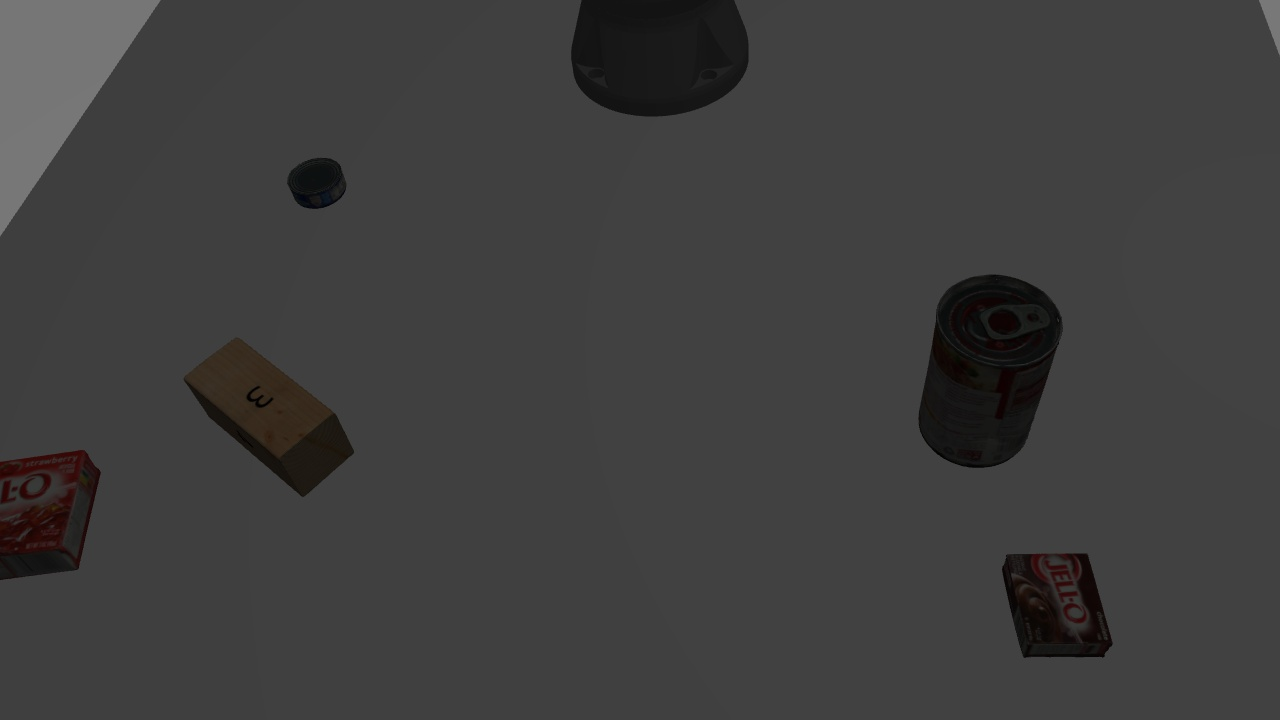gelatin_box: (0, 444, 109, 583)
pudding_box: (999, 546, 1116, 663)
tomato_soup_can: (911, 267, 1061, 478)
tuna_fish_can: (284, 156, 351, 209)
wood_block: (178, 335, 357, 501)
